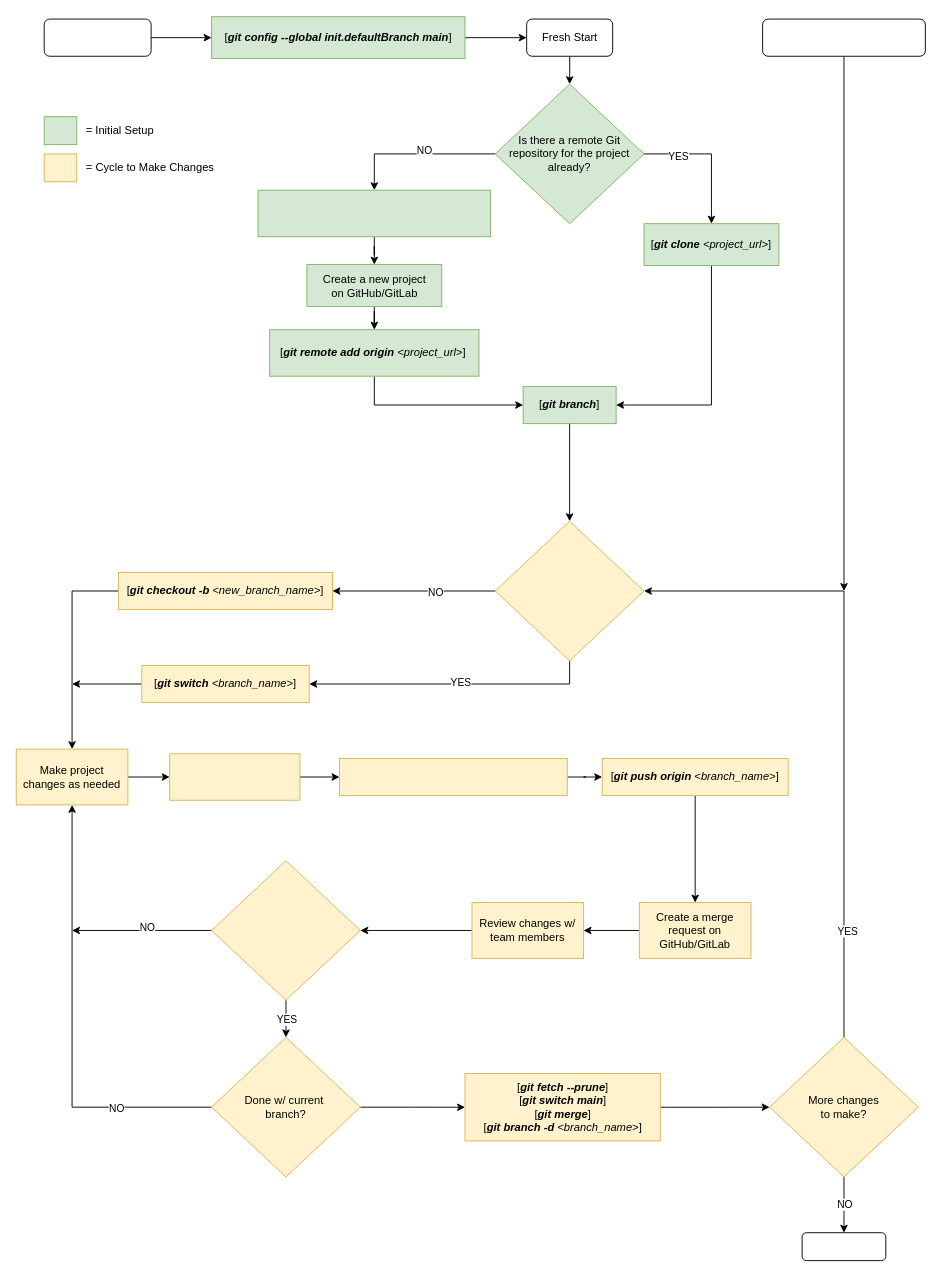
The diagram is 942 pixels wide and 1277 high, and some of its shapes have lost their labels. Here are the shapes that lost their labels. From the top down, the box of each, then its label:
(43, 18, 151, 56): Just Installed Git
(762, 18, 925, 56): Start (already have local Git repo)
(257, 189, 491, 237): [ git init <new_folder_name_for_project> ]
(494, 520, 644, 661): Does the branch you need to work on exist yet?
(169, 753, 300, 800): [ git add <file_name> ] or [ git add . ]
(339, 757, 567, 796): [ git commit -m" <change_type:subject> " ]
(211, 860, 360, 1000): New change good to go?
(801, 1232, 886, 1261): Done!
